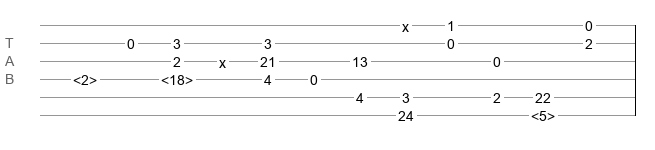0: (127, 36, 135, 46), (310, 72, 318, 82), (447, 36, 455, 46), (493, 54, 501, 64), (585, 18, 593, 28)
1: (447, 18, 455, 28)
13: (352, 54, 368, 64)
2: (173, 54, 181, 64), (493, 90, 501, 100), (585, 36, 593, 46)
21: (260, 54, 276, 64)
22: (535, 90, 551, 100)
24: (398, 108, 414, 118)
3: (173, 36, 181, 46), (264, 36, 272, 46), (402, 90, 410, 100)
4: (264, 72, 272, 82), (356, 90, 364, 100)
harmonic: (161, 72, 193, 82), (73, 72, 97, 82), (531, 108, 555, 118)
x: (219, 55, 226, 63), (402, 19, 409, 27)
